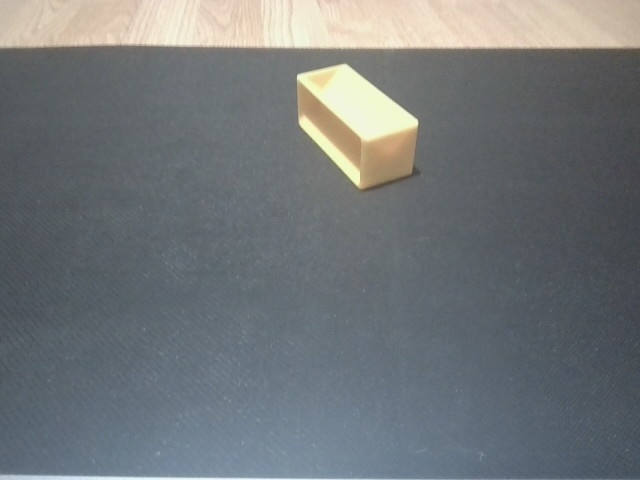YellowSample: (294, 61, 421, 191)
